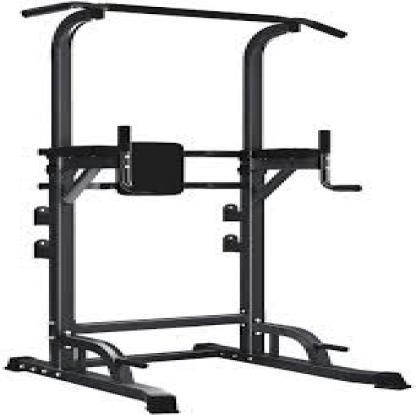chinning dipping: (7, 1, 404, 411)
